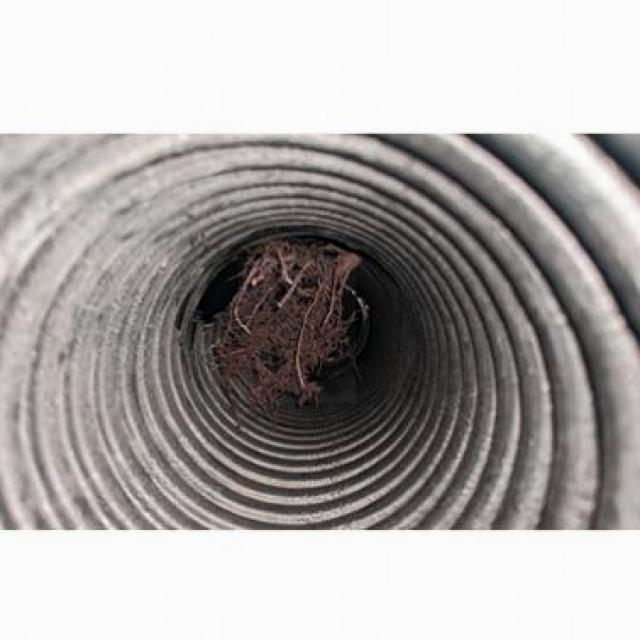root: (199, 247, 369, 412)
